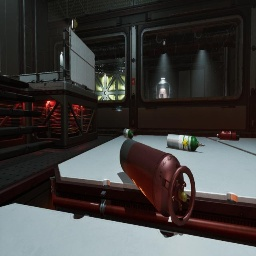0: (167, 134, 205, 151), (123, 128, 134, 139)
FireAlarm ,: (132, 78, 135, 85)
FireExtinguisher ]: (215, 131, 240, 141), (123, 129, 137, 136)
NitrogenTank ,: (120, 139, 196, 226)
